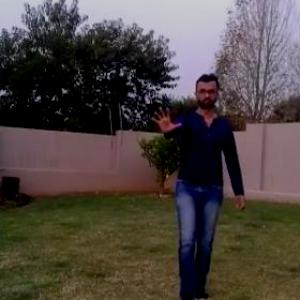follow_hand: (146, 103, 183, 137)
